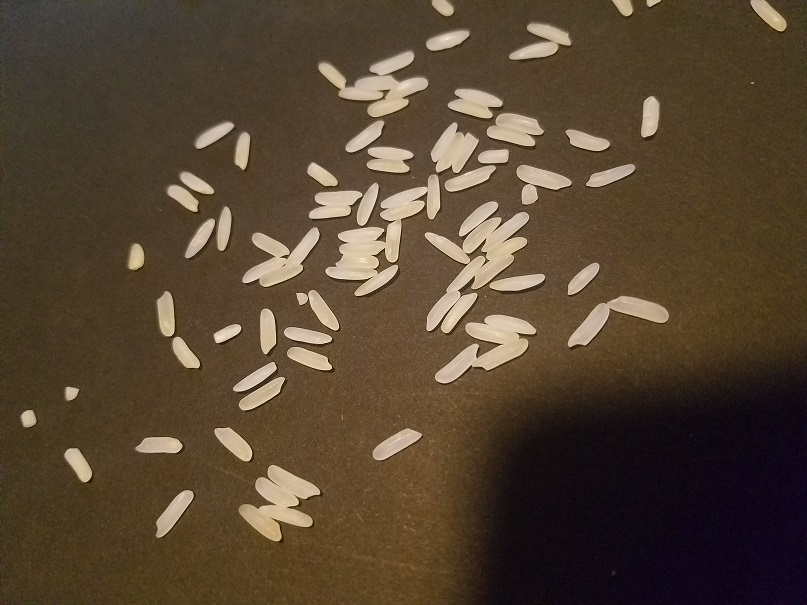egg: (153, 489, 196, 539), (480, 211, 530, 253), (471, 337, 529, 373), (608, 292, 670, 325), (565, 303, 610, 348), (267, 464, 322, 500), (434, 343, 480, 384), (371, 426, 423, 462), (237, 375, 287, 412), (237, 503, 282, 543), (440, 292, 480, 335), (469, 253, 515, 290), (351, 262, 399, 297), (515, 163, 572, 192), (444, 255, 487, 293), (422, 230, 470, 264), (461, 215, 502, 254), (423, 290, 461, 332), (443, 164, 496, 194), (464, 320, 521, 347), (231, 361, 279, 393), (213, 424, 253, 462), (284, 227, 321, 267), (457, 200, 499, 235), (343, 119, 385, 154), (183, 217, 217, 260), (308, 288, 342, 331), (585, 162, 636, 190), (258, 503, 315, 528), (254, 476, 301, 506), (748, 1, 789, 35), (193, 120, 235, 151), (566, 261, 602, 297), (434, 132, 465, 173), (483, 312, 538, 335), (450, 132, 480, 174), (428, 121, 458, 163), (488, 271, 545, 293), (368, 49, 416, 75), (241, 257, 287, 284), (286, 345, 335, 370), (485, 124, 538, 147), (378, 185, 428, 209), (526, 21, 573, 46), (485, 234, 527, 261), (564, 127, 611, 151), (495, 113, 544, 136), (259, 263, 304, 288), (354, 181, 379, 226), (63, 446, 93, 483), (453, 86, 503, 108), (165, 183, 200, 214), (171, 335, 202, 370), (379, 200, 428, 222), (508, 41, 559, 62), (250, 232, 290, 257), (156, 289, 176, 338), (180, 170, 216, 197), (283, 326, 333, 345), (425, 30, 470, 51), (446, 98, 493, 118), (365, 97, 409, 118), (384, 77, 427, 98), (134, 436, 184, 454), (640, 95, 660, 140), (315, 61, 347, 89), (306, 160, 339, 187), (259, 306, 277, 355), (324, 265, 378, 281), (215, 205, 232, 252), (232, 130, 251, 171), (426, 173, 442, 221), (312, 190, 363, 205), (308, 203, 353, 220), (384, 217, 401, 262), (353, 74, 401, 89), (338, 240, 385, 255), (337, 227, 387, 241), (365, 158, 410, 173), (213, 323, 243, 345), (333, 254, 380, 268), (338, 87, 383, 101), (367, 146, 415, 159), (127, 243, 146, 271), (476, 149, 510, 164), (612, 1, 636, 18), (430, 1, 455, 17), (521, 184, 539, 205), (20, 410, 39, 428), (64, 386, 80, 403), (296, 291, 308, 306), (644, 1, 662, 9)
